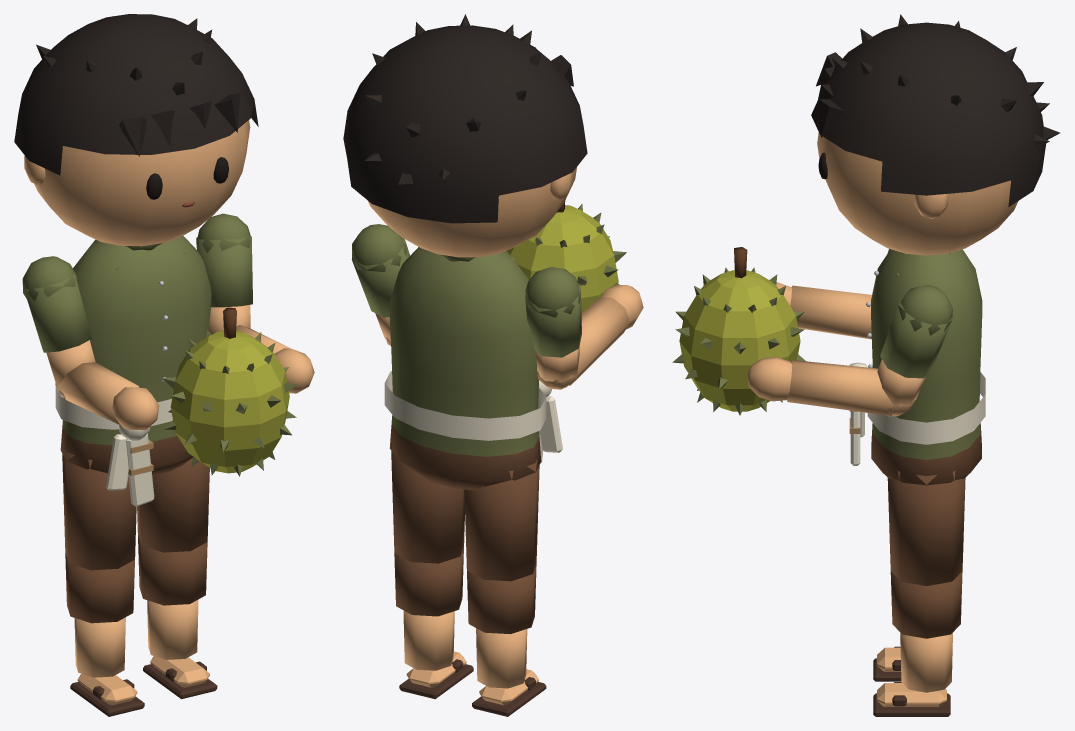
File: east_durian_man.glb
3 views of the same model, side by side, from view 1: azimuth 30°, elevation 25°; view 2: azimuth 150°, elevation 25°; view 3: azimuth 270°, elevation 25° (orthographic).
Visible parts, largest first — view 1: head, body, prop_durian, shin_L, shin_R, leg_R, arm_R, leg_L, arm_L, forearm_R, forearm_L; view 2: head, body, shin_L, shin_R, leg_R, prop_durian, leg_L, arm_R, arm_L, forearm_R; view 3: head, body, prop_durian, shin_L, leg_L, arm_L, forearm_L, forearm_R, shin_R.
Boxes of the visible parts, x1,y1,x2,y2 form: head: [14, 14, 258, 246]; body: [55, 236, 211, 506]; prop_durian: [162, 307, 297, 476]; shin_L: [138, 535, 217, 699]; shin_R: [65, 552, 144, 716]; leg_R: [62, 448, 136, 570]; arm_R: [22, 256, 95, 397]; leg_L: [137, 458, 209, 552]; arm_L: [196, 213, 252, 334]; forearm_R: [55, 362, 159, 430]; forearm_L: [223, 325, 314, 393]; head: [343, 14, 587, 257]; body: [384, 247, 562, 490]; shin_L: [394, 546, 473, 699]; shin_R: [467, 563, 546, 716]; leg_R: [464, 459, 539, 581]; prop_durian: [507, 201, 626, 313]; leg_L: [391, 441, 464, 563]; arm_R: [525, 267, 581, 389]; arm_L: [351, 224, 410, 345]; forearm_R: [537, 285, 643, 387]; head: [811, 14, 1060, 255]; body: [849, 249, 985, 485]; prop_durian: [672, 247, 805, 415]; shin_L: [873, 571, 962, 716]; leg_L: [887, 470, 965, 585]; arm_L: [877, 285, 953, 416]; forearm_L: [747, 357, 913, 415]; forearm_R: [776, 282, 871, 339]; shin_R: [873, 646, 901, 681].
Size of the model in its own units: 0.5253 by 1.48 by 0.7926.
